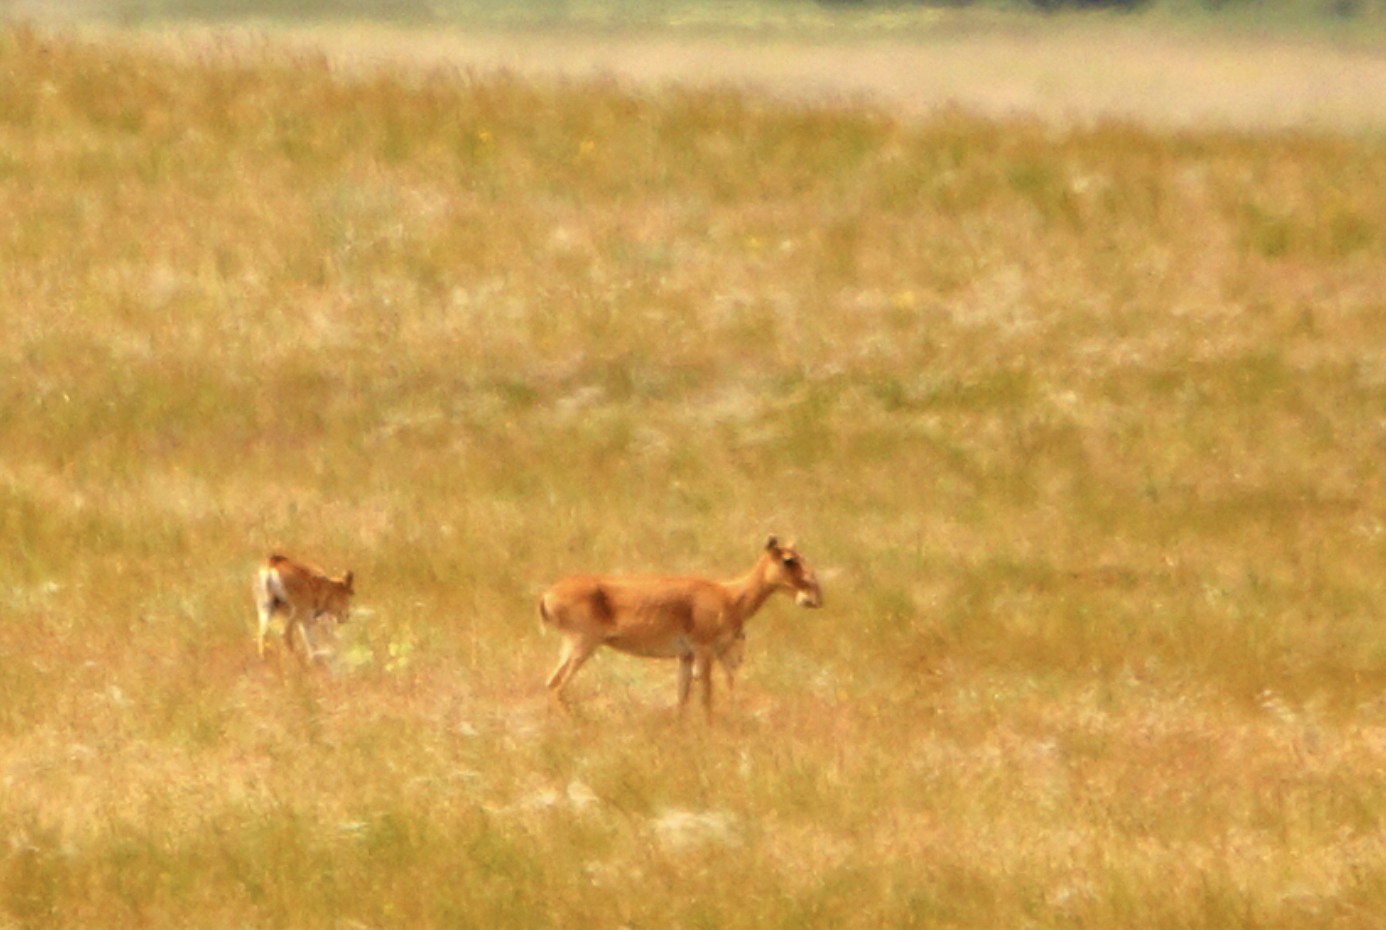saiga: (517, 516, 846, 685), (220, 530, 426, 715)
